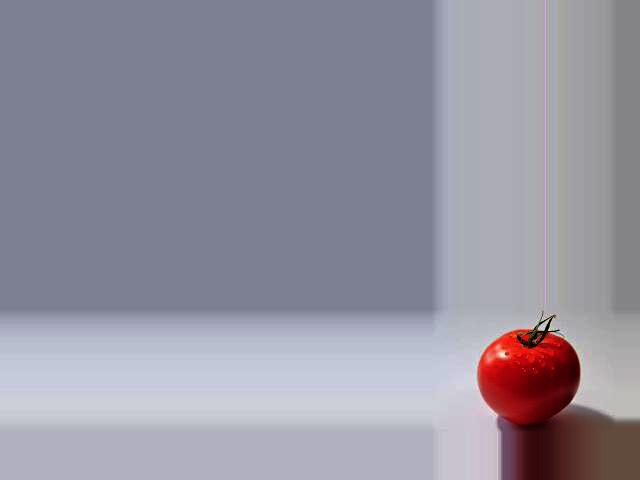tomato: (476, 331, 579, 425)
